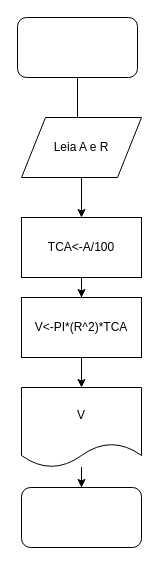
Some shapes in this 159 by 565 pixel diagram are drawn without their labels. Each missing label, with the box of its shape:
FIMALGORITMO: (20, 486, 142, 548)
INICIO: (16, 16, 138, 78)
